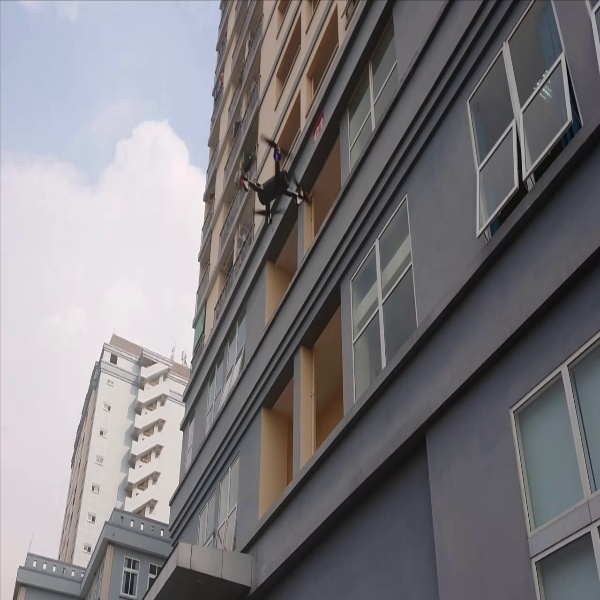drone: (235, 135, 315, 223)
